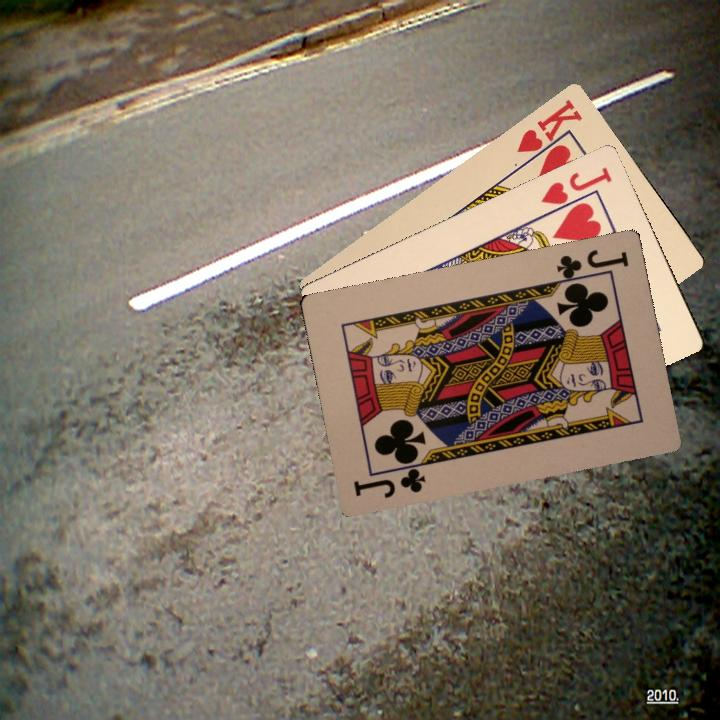Jc: (349, 457, 429, 501), (552, 245, 631, 287)
Jh: (537, 162, 614, 219)
Kh: (512, 95, 585, 167)
